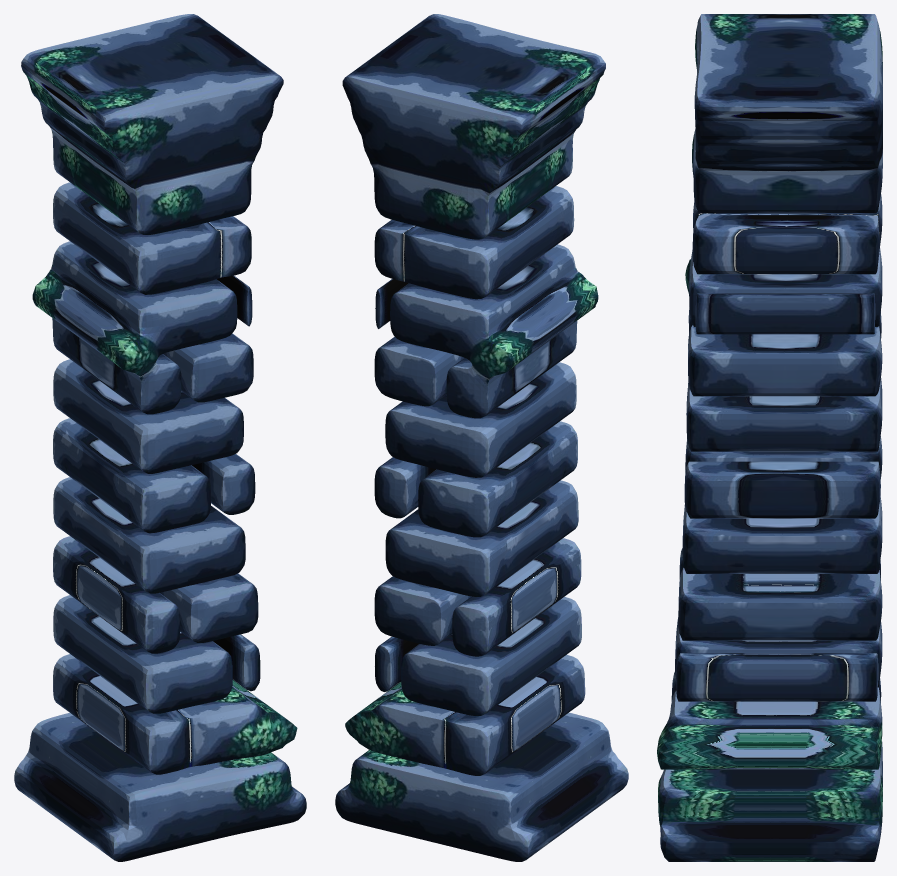
The model's file is ancient_pillar.glb.
3 views of the same model, side by side, from view 1: azimuth 30°, elevation 25°; view 2: azimuth 150°, elevation 25°; view 3: azimuth 270°, elevation 25° (orthographic). The views are drawn at different scales.
Visible parts, largest first — view 1: geometry_0; view 2: geometry_0; view 3: geometry_0.
Part boxes in pixels (x1,y1,x2,y2): geometry_0: [14, 14, 306, 861]; geometry_0: [335, 14, 628, 861]; geometry_0: [657, 14, 882, 861].
Bounding box in the file's own units: 2.97 × 10.94 × 2.94.
1 material, 1 textured.
